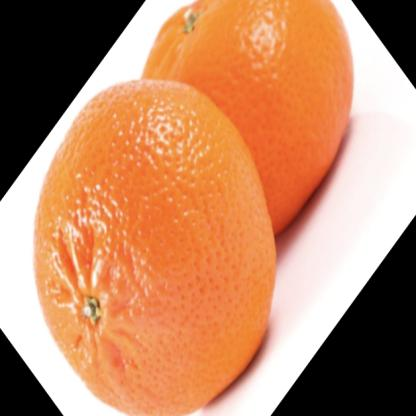fresh: (32, 3, 356, 410)
